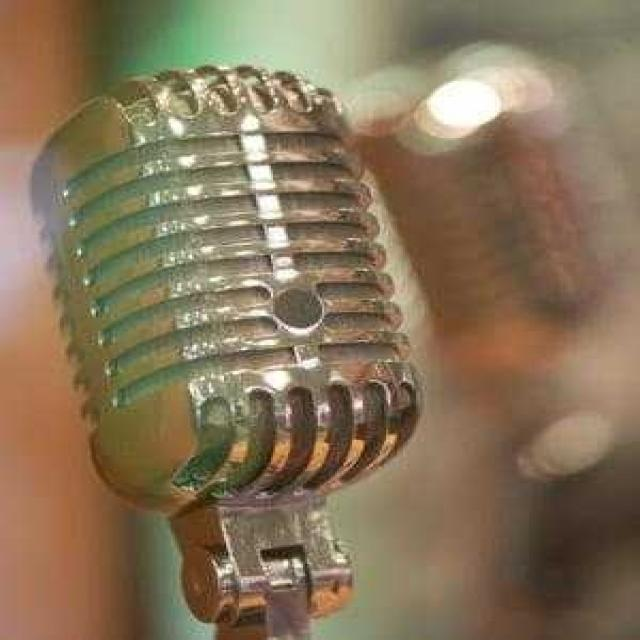microphone: (37, 66, 420, 628)
